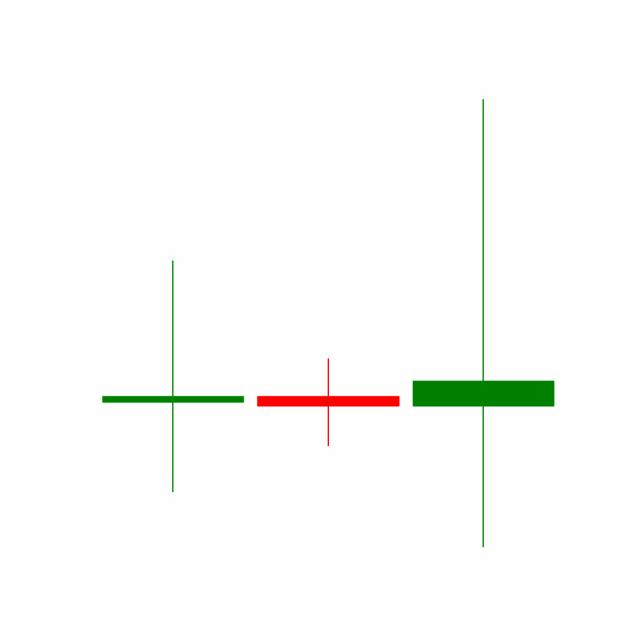Spinning Top: (249, 356, 406, 446)
